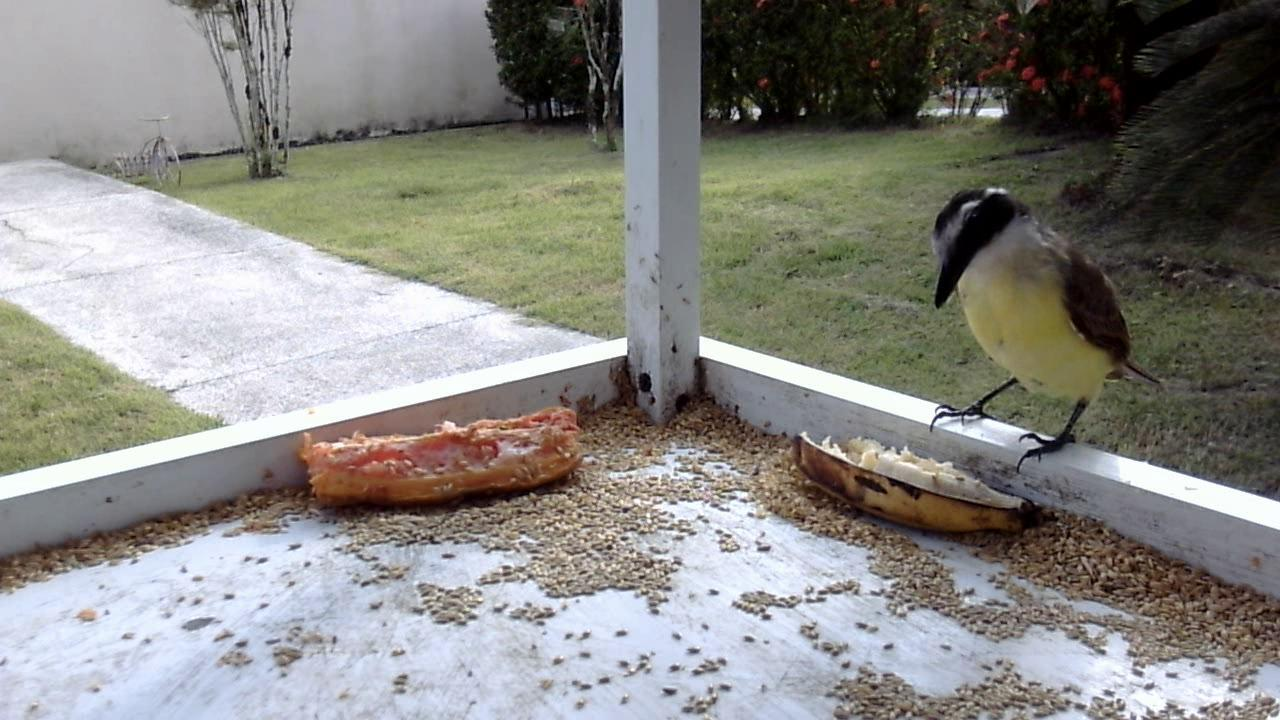bem_te_vi: (914, 182, 1177, 477)
